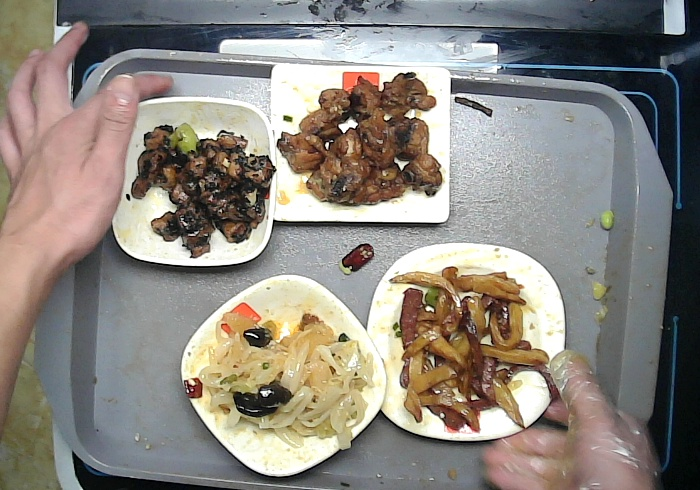SHKJ-Bai_Se_Cai_Die: (179, 275, 386, 477)
SHKJ-Bai_Se_Si_Fang_Cai_Die: (366, 243, 566, 440)
SHKJ-Bai_Se_Xiao_Fang_Die: (110, 96, 277, 266)
SHKJ-Si_Fang_Min: (269, 63, 451, 222)
